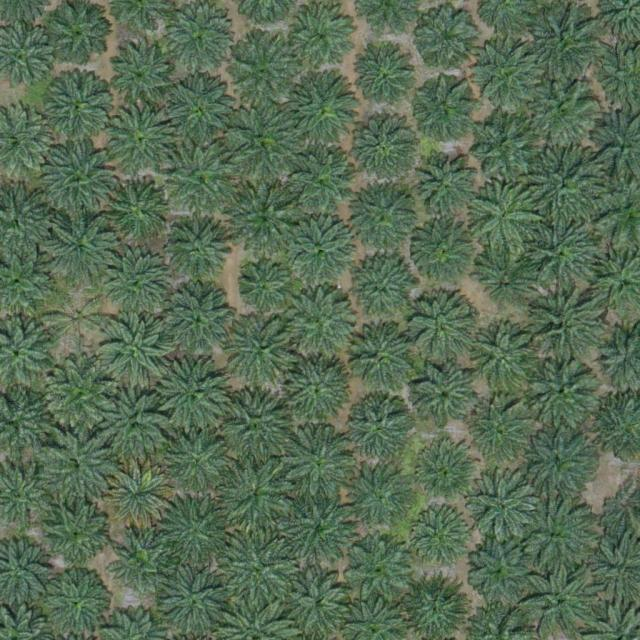Healthy: (526, 149, 604, 228), (281, 147, 359, 226), (227, 182, 305, 261), (516, 499, 594, 578), (522, 559, 600, 638), (217, 458, 295, 537), (221, 532, 299, 611), (522, 287, 600, 365), (289, 3, 360, 74), (409, 220, 480, 291), (286, 356, 357, 427), (227, 315, 298, 386), (281, 428, 352, 499), (285, 494, 356, 565), (164, 286, 235, 357), (227, 39, 298, 109), (285, 74, 355, 145), (110, 42, 181, 112), (44, 70, 114, 141), (527, 77, 597, 148), (530, 359, 600, 430), (472, 114, 542, 185), (470, 327, 540, 398), (406, 297, 477, 367), (348, 114, 418, 185), (346, 326, 416, 397), (228, 107, 298, 178), (524, 424, 594, 495), (342, 533, 412, 604), (284, 569, 355, 639), (164, 427, 234, 498), (158, 495, 228, 566), (45, 143, 115, 214), (46, 212, 116, 283), (45, 359, 115, 430), (104, 253, 174, 324), (105, 105, 175, 176), (166, 142, 237, 212), (42, 433, 113, 503), (474, 40, 544, 110), (529, 5, 599, 75), (165, 10, 235, 80), (167, 74, 237, 144), (528, 218, 598, 288), (349, 185, 419, 255), (347, 259, 417, 329), (286, 219, 356, 289), (285, 288, 355, 358), (467, 472, 537, 542), (219, 393, 289, 463), (157, 359, 227, 429), (158, 565, 228, 635), (99, 390, 169, 460), (100, 314, 170, 384), (40, 499, 110, 569), (477, 246, 540, 309), (412, 363, 475, 426), (418, 5, 480, 68), (357, 49, 419, 112), (49, 3, 111, 66), (474, 188, 536, 251), (470, 401, 532, 464), (411, 81, 473, 144), (418, 154, 480, 217), (472, 539, 534, 602), (412, 442, 475, 504), (350, 466, 413, 528), (106, 180, 168, 243), (46, 574, 108, 637), (347, 397, 409, 459), (410, 509, 472, 571), (168, 217, 230, 279), (115, 534, 169, 590), (239, 264, 286, 312)
Yellow: (104, 462, 174, 533), (47, 289, 109, 352)
